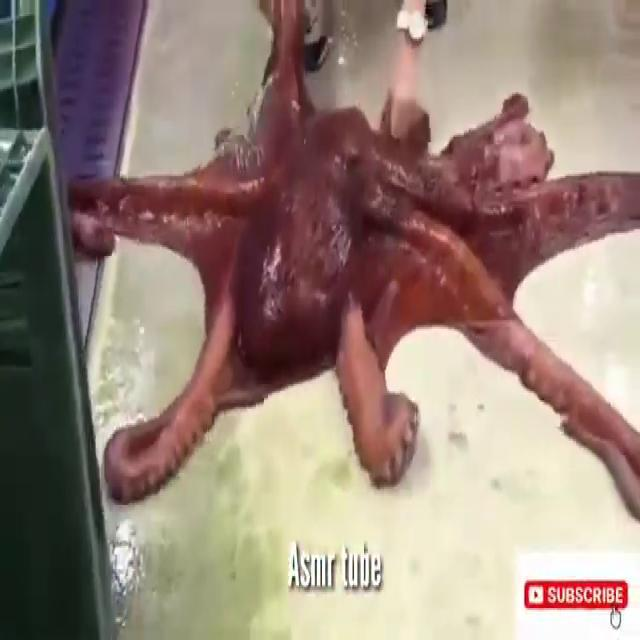octopus: (62, 0, 640, 516)
